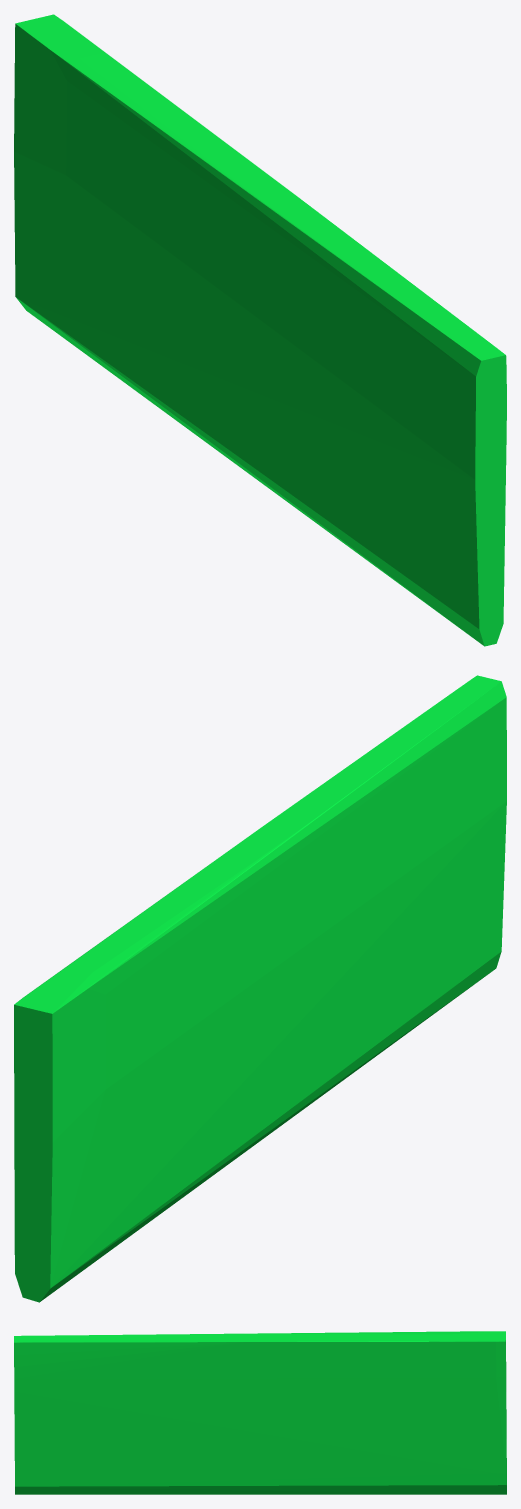
File: converted_Downdraft_Assy_collision_34_07f547ff.obj
3 renders of one model, top to bottom at view 1: azimuth 30°, elevation 25°; view 2: azimuth 150°, elevation 25°; view 3: azimuth 270°, elevation 25°, orthographic. The views are drawn at different scales.
Size of the model in its own units: 0.0285 by 0.1972 by 0.561.
